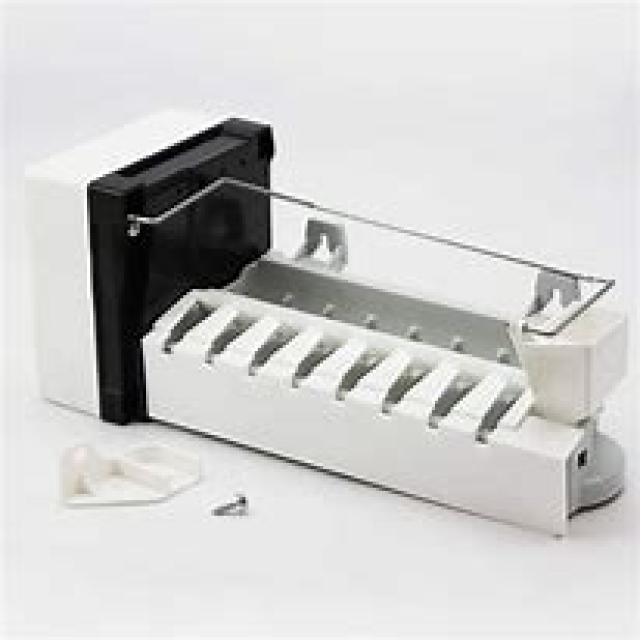fridge: (25, 109, 627, 537)
